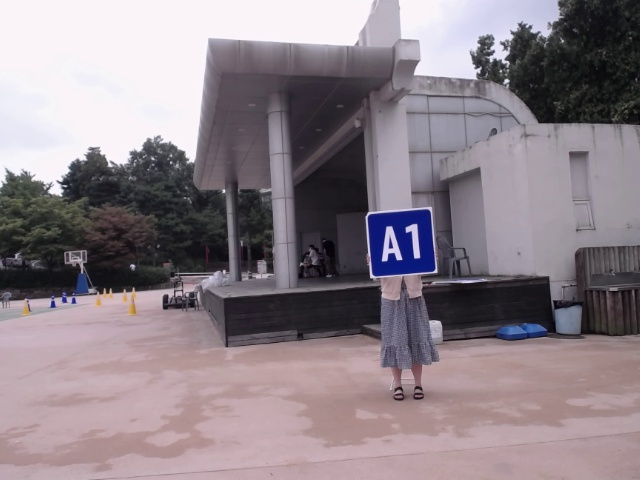delivery_a1: (367, 206, 437, 279)
